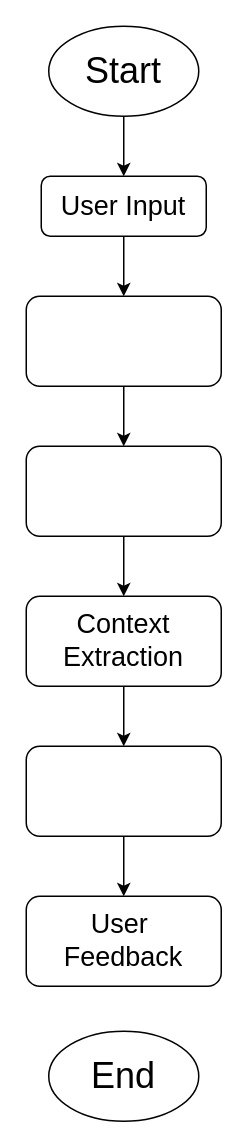
Some shapes in this 248 by 1148 pixel diagram are drawn without their labels. The shapes that lost their labels are listed below. From the top down, each one's centre as x and y in pixels, then its label:
At pixel 123 340: "Text Preprocessing".
At pixel 123 490: "Text Embedding".
At pixel 123 790: "Image Generation".
